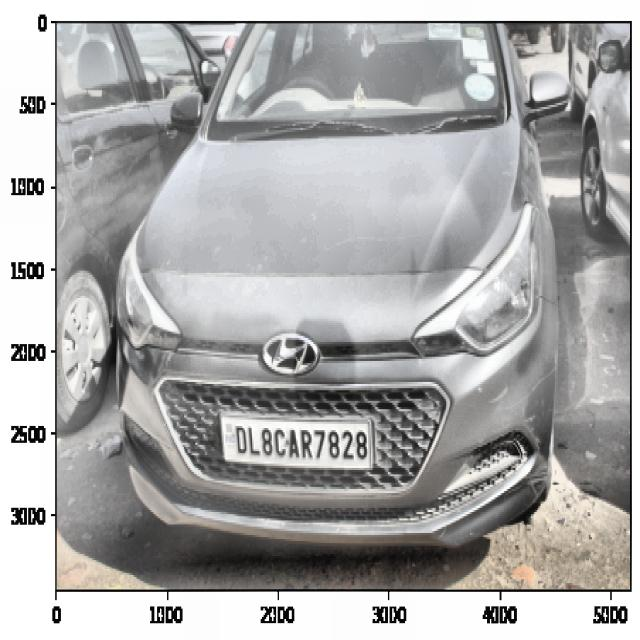license_plate: (228, 416, 374, 468)
